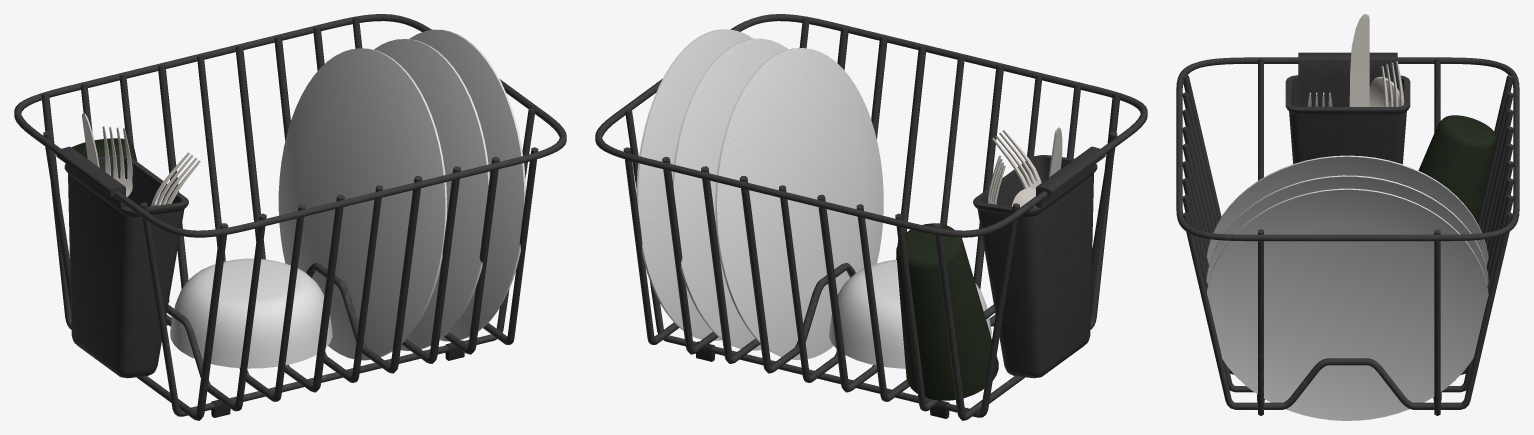
File: dish_rack_with_dishes.glb
3 views of the same model, side by side, from view 1: azimuth 30°, elevation 25°; view 2: azimuth 150°, elevation 25°; view 3: azimuth 270°, elevation 25° (orthographic). The views are drawn at different scales.
Parts seen in each view (by area): view 1: DishRack, DishPlateC, DishPlateB, DishBowl, DishPlateA, UtensilForkA, UtensilForkB, DishCup; view 2: DishRack, DishPlateC, DishPlateB, DishCup, DishPlateA, DishBowl, UtensilForkB; view 3: DishPlateA, DishRack, DishPlateC, DishCup, DishPlateB, UtensilKnife, UtensilForkA, UtensilSpoon.
Part boxes in pixels (bbox=[...]): DishRack: bbox=[14, 14, 566, 420]; DishPlateC: bbox=[278, 48, 447, 360]; DishPlateB: bbox=[374, 39, 489, 350]; DishBowl: bbox=[170, 258, 332, 368]; DishPlateA: bbox=[409, 29, 525, 341]; UtensilForkA: bbox=[102, 126, 132, 196]; UtensilForkB: bbox=[150, 152, 200, 206]; DishCup: bbox=[72, 138, 169, 302]; DishRack: bbox=[595, 14, 1147, 420]; DishPlateC: bbox=[715, 48, 883, 359]; DishPlateB: bbox=[672, 38, 788, 350]; DishCup: bbox=[896, 223, 998, 400]; DishPlateA: bbox=[636, 29, 752, 340]; DishBowl: bbox=[829, 259, 991, 368]; UtensilForkB: bbox=[992, 130, 1041, 189]; DishPlateA: bbox=[1207, 188, 1488, 420]; DishRack: bbox=[1176, 52, 1519, 415]; DishPlateC: bbox=[1207, 155, 1488, 266]; DishCup: bbox=[1418, 115, 1496, 222]; DishPlateB: bbox=[1206, 175, 1488, 285]; UtensilKnife: bbox=[1349, 14, 1369, 106]; UtensilForkA: bbox=[1381, 61, 1404, 106]; UtensilSpoon: bbox=[1369, 76, 1399, 106].
Size of the model in its own units: 0.42 by 0.2829 by 0.3352.
Materials: 1 (1 with a texture image).
